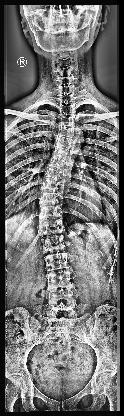Vertebrae: (43, 252, 71, 272), (48, 289, 76, 309), (48, 302, 78, 320), (46, 272, 74, 290), (42, 234, 66, 254), (40, 220, 64, 236), (39, 206, 61, 220), (38, 192, 59, 206), (52, 146, 70, 160), (47, 157, 65, 171), (45, 167, 63, 181), (56, 135, 72, 149), (59, 115, 77, 127), (59, 105, 76, 117), (59, 126, 75, 138), (42, 181, 60, 191)
